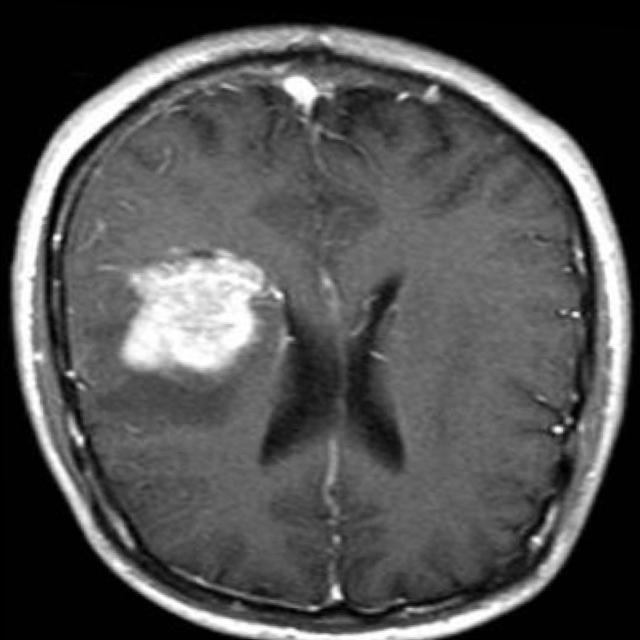Tumor: (116, 253, 266, 378)
